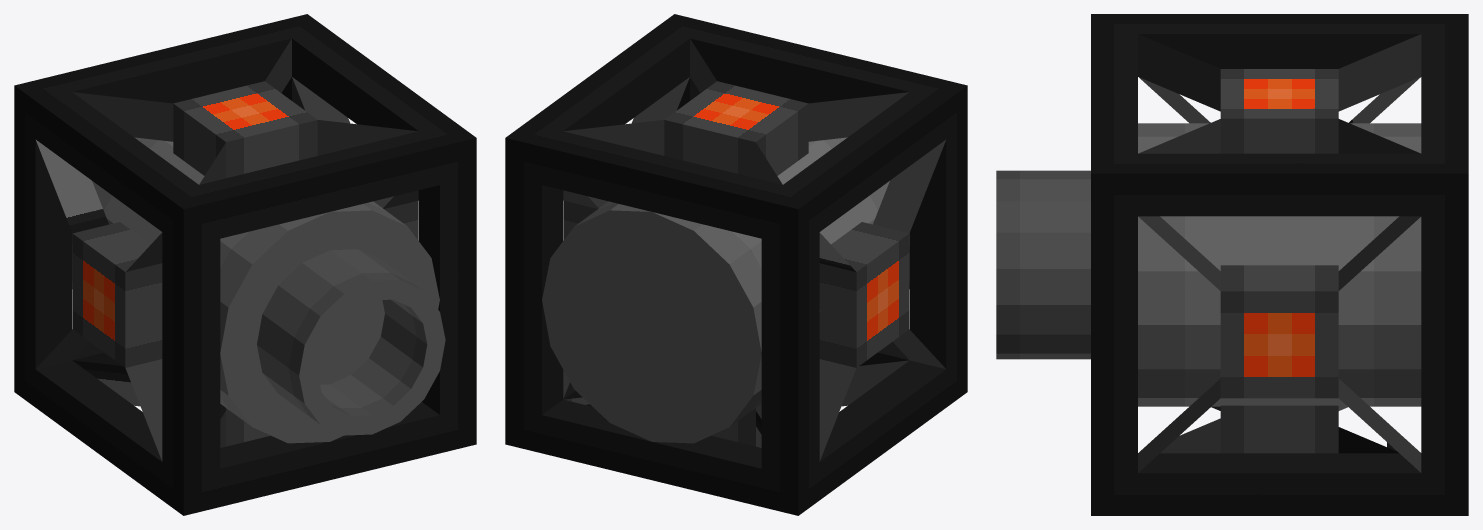
File: dfc_receiver.obj
The picture shows the model from 3 angles, left to right: view 1: azimuth 30°, elevation 25°; view 2: azimuth 150°, elevation 25°; view 3: azimuth 270°, elevation 25°; orthographic projection. The views are drawn at different scales.
Visible parts, largest first — view 1: Cube_Cube.001; view 2: Cube_Cube.001; view 3: Cube_Cube.001.
Boxes of the visible parts, x1,y1,x2,y2 form: Cube_Cube.001: (14, 14, 476, 515); Cube_Cube.001: (505, 14, 967, 515); Cube_Cube.001: (996, 14, 1468, 515).
Size of the model in its own units: 1 by 1 by 1.25.
